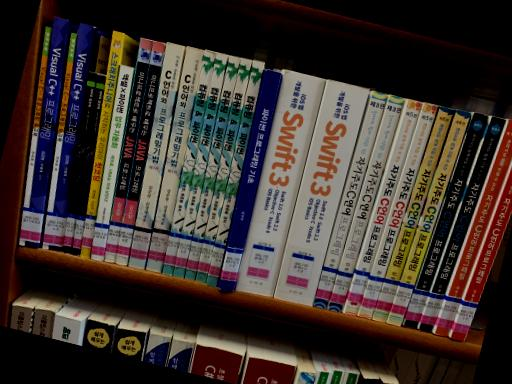book-spine: (274, 80, 369, 306), (234, 70, 325, 297), (417, 117, 505, 333), (402, 113, 488, 328), (386, 109, 470, 326), (356, 102, 438, 320), (371, 107, 454, 322), (432, 119, 512, 337), (343, 99, 422, 316), (327, 95, 403, 313), (312, 91, 386, 309), (144, 46, 205, 273), (219, 70, 280, 291), (205, 60, 263, 287), (195, 58, 253, 283), (128, 43, 184, 270), (184, 56, 240, 281), (172, 53, 227, 279), (162, 49, 216, 276), (115, 41, 165, 265), (103, 38, 152, 263), (449, 166, 512, 341), (24, 17, 68, 248), (48, 23, 92, 251), (80, 31, 122, 258), (90, 65, 134, 261), (42, 33, 76, 249), (18, 27, 50, 246), (71, 74, 105, 256), (62, 72, 96, 253)
